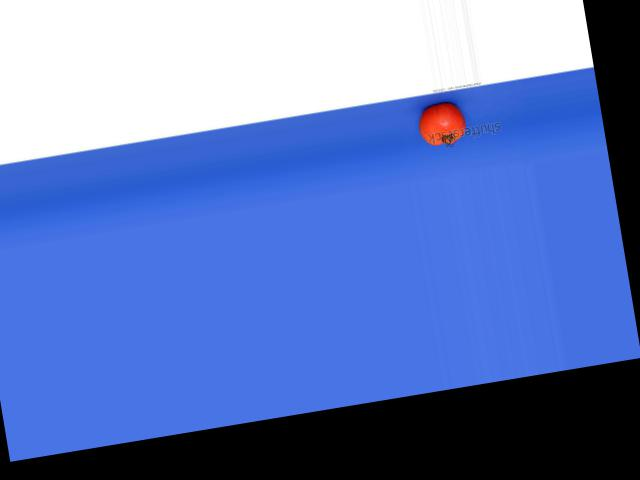tomato: (414, 100, 467, 148)
